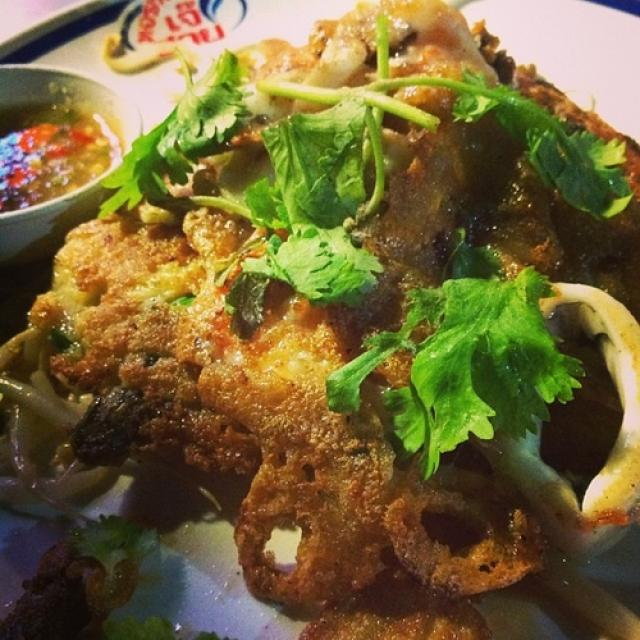炸货点心: (26, 13, 613, 618)
蛋糕甜品: (26, 13, 613, 618)
